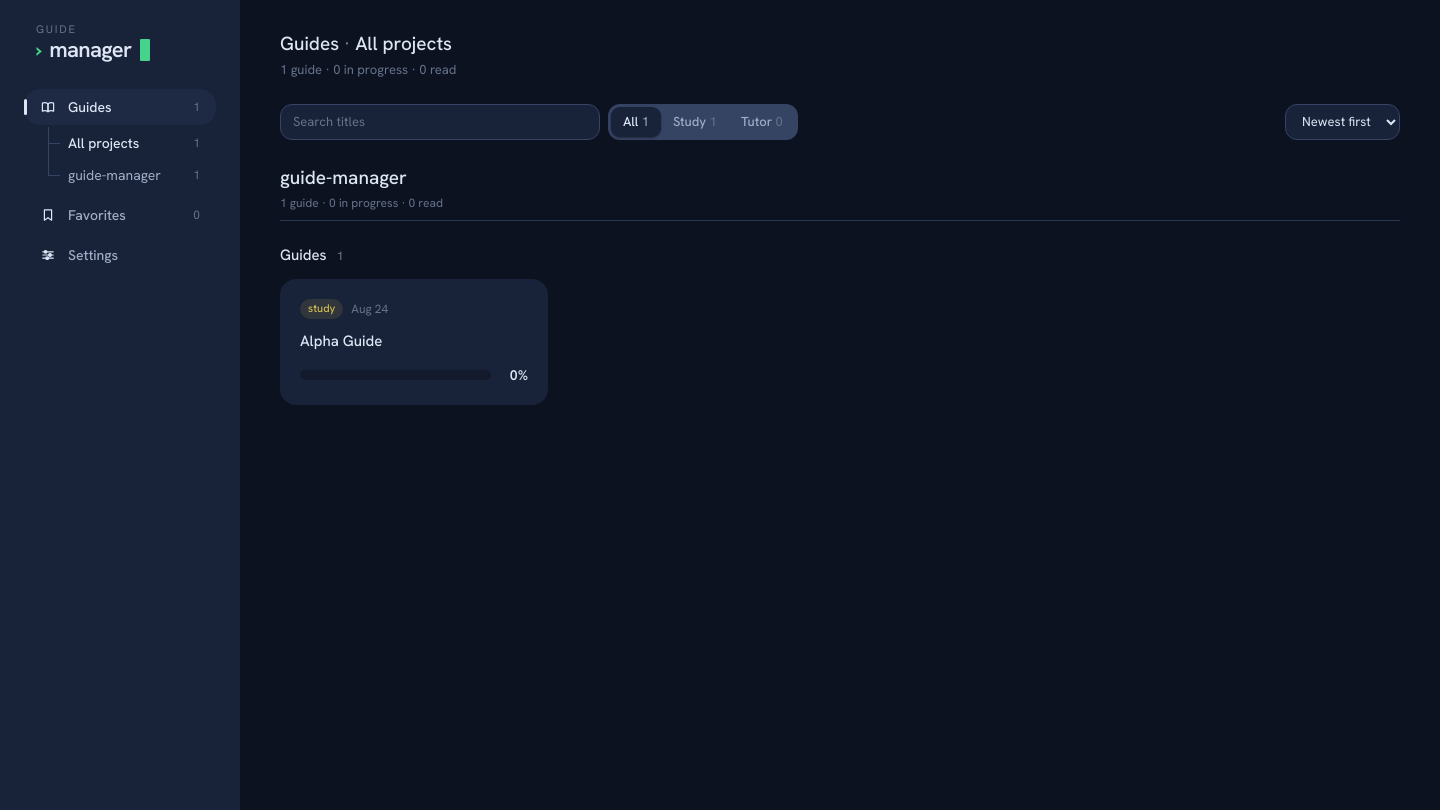
App — which section the page opens on › keeps recording the section under an override, so switching back is honest
The image size is (1440, 810).
Expected: the text "Alpha Guide" is shown, [300, 331, 382, 351]
Click the button "Settings" at x=120, y=255, box [24, 237, 216, 273]
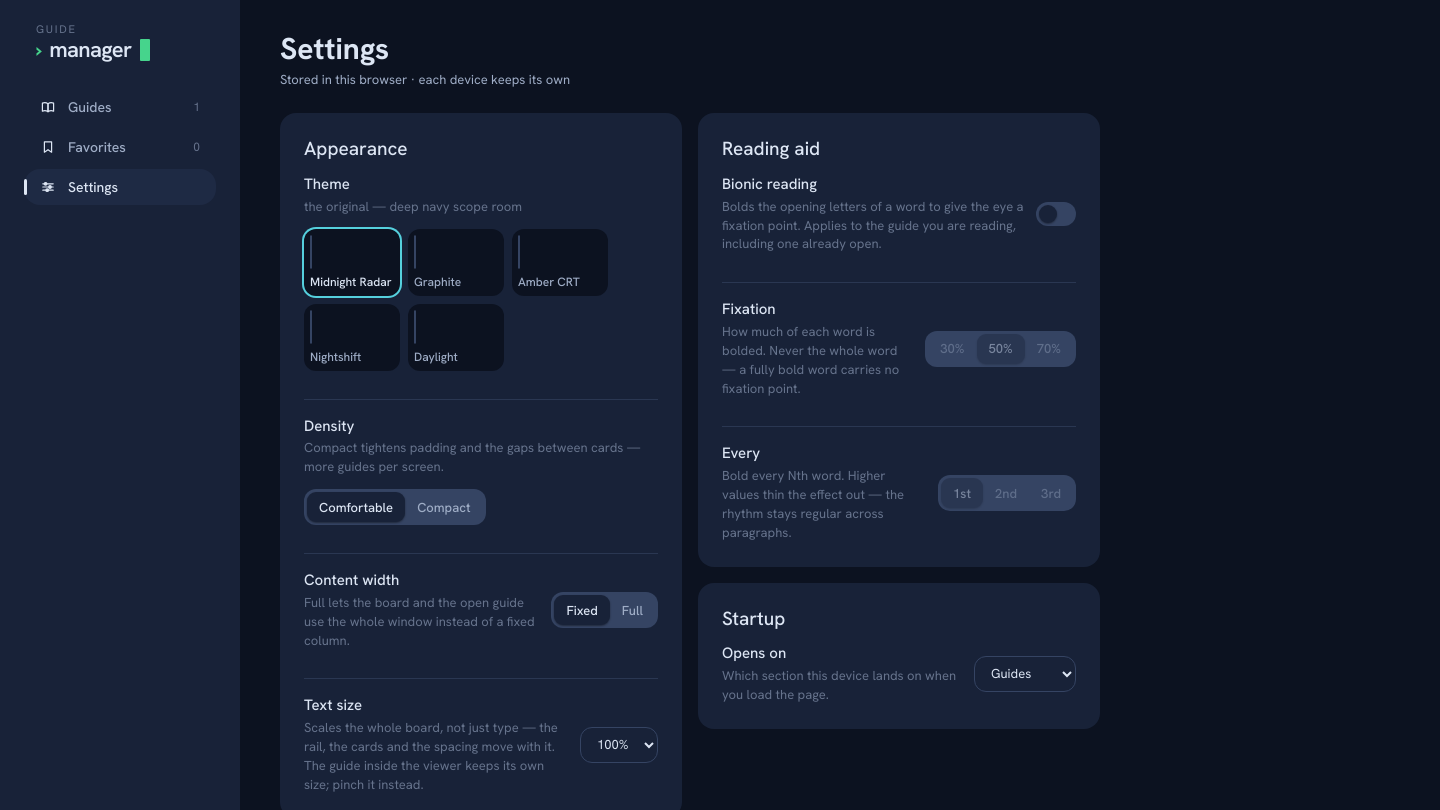
Result: the text "Theme" is shown at [304, 174, 350, 194]
